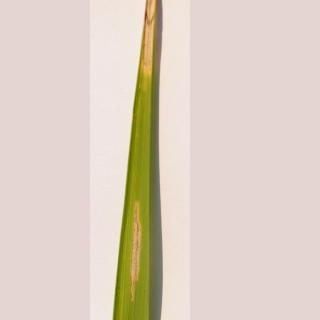Hawar-Daun: (116, 194, 158, 299), (135, 1, 164, 94)
